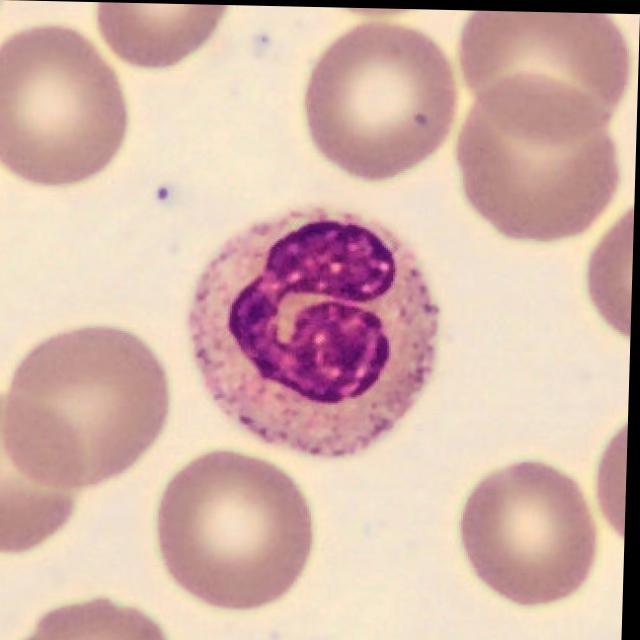Bastonete: (194, 209, 439, 452)
